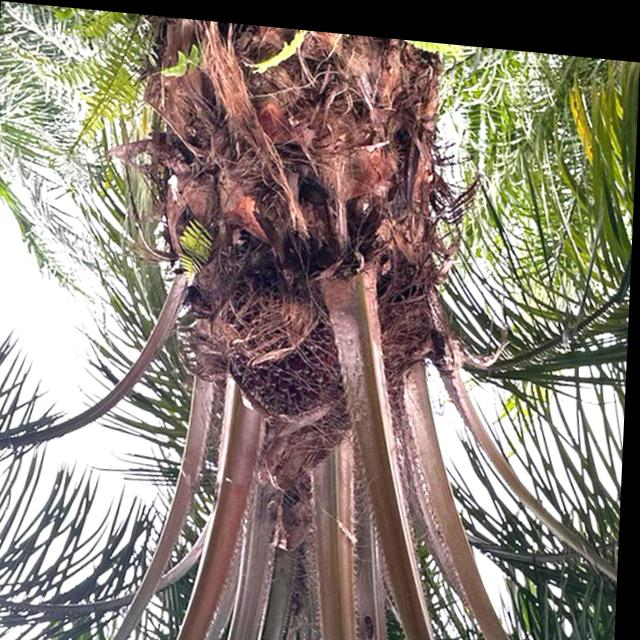ripe: (220, 283, 353, 431)
